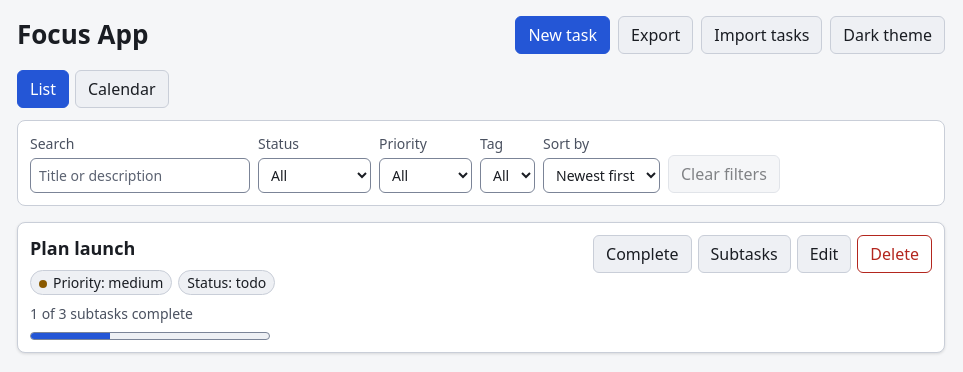
it: completing the parent (US3) › the Complete button completes every subtask
This screenshot has width=963, height=372.
What coordinates should you click on to do the following:
click the button with aria-label "Complete Plan launch"
I would click on:
 (642, 254)
Its box is [593, 235, 692, 273].
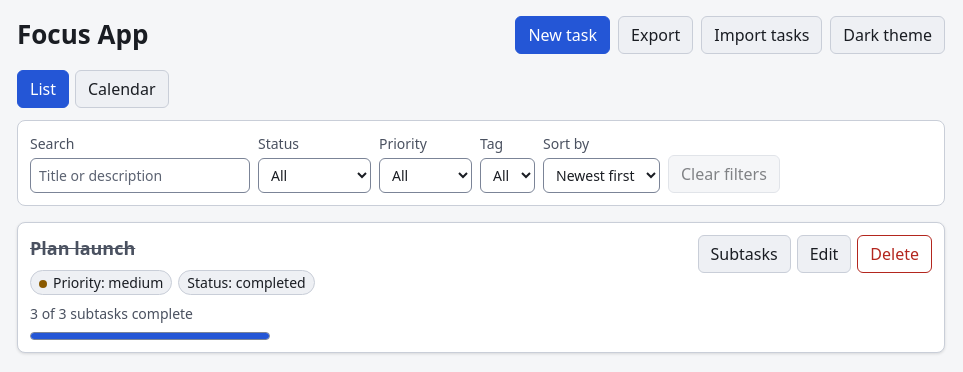
Now the text "3 of 3 subtasks complete" is shown, box [30, 303, 193, 324]
